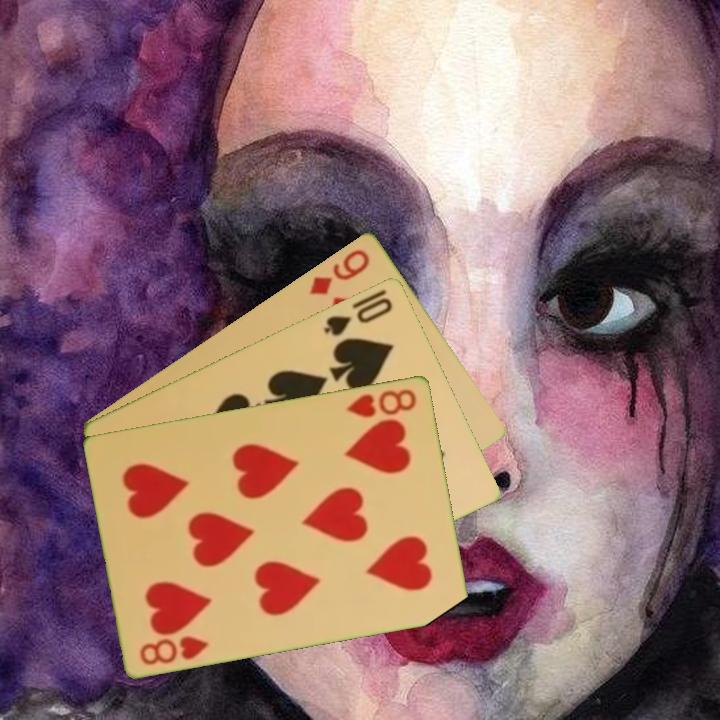10s: (320, 293, 396, 339)
8h: (136, 631, 212, 668), (344, 385, 420, 420)
9d: (305, 245, 373, 298)
